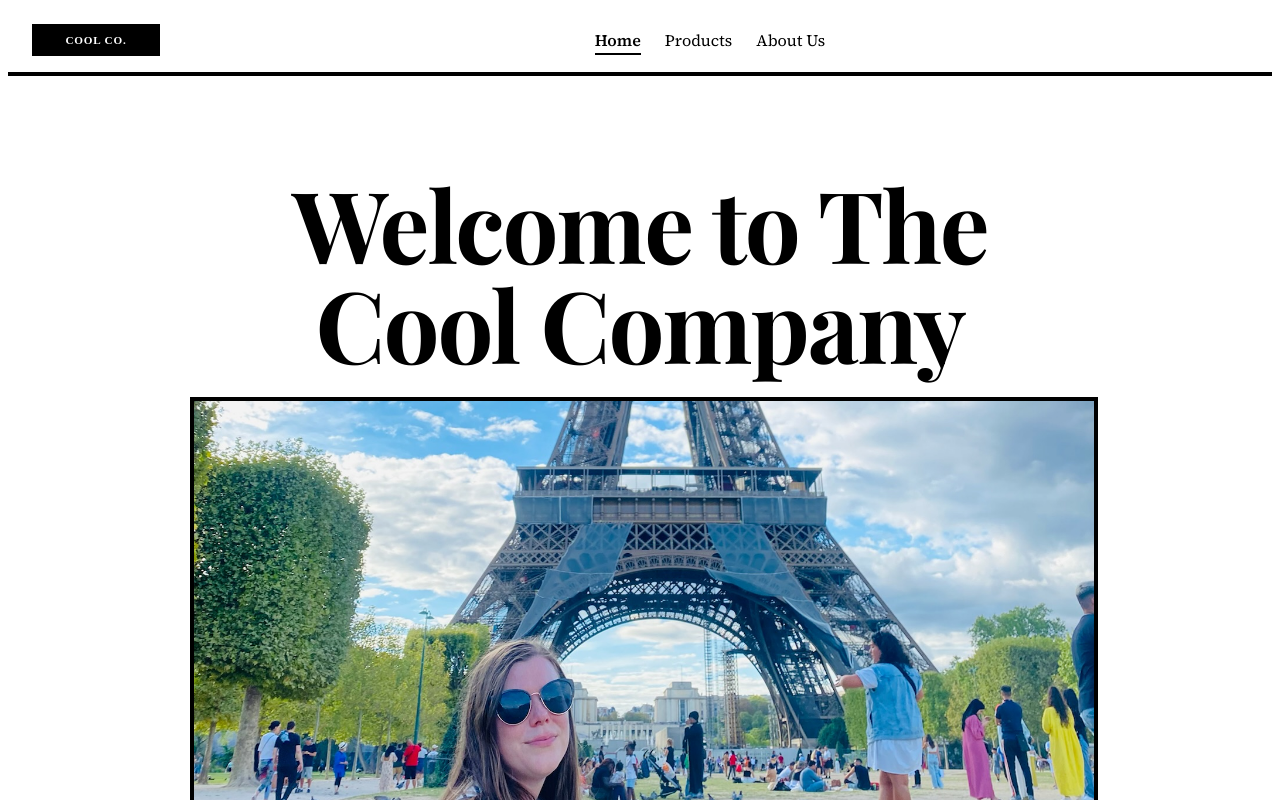
Test: App navigation › shows a Products placeholder page with no error when Products is clicked
Click the link "Products" at {"x": 698, "y": 42}, box [665,29,732,55]
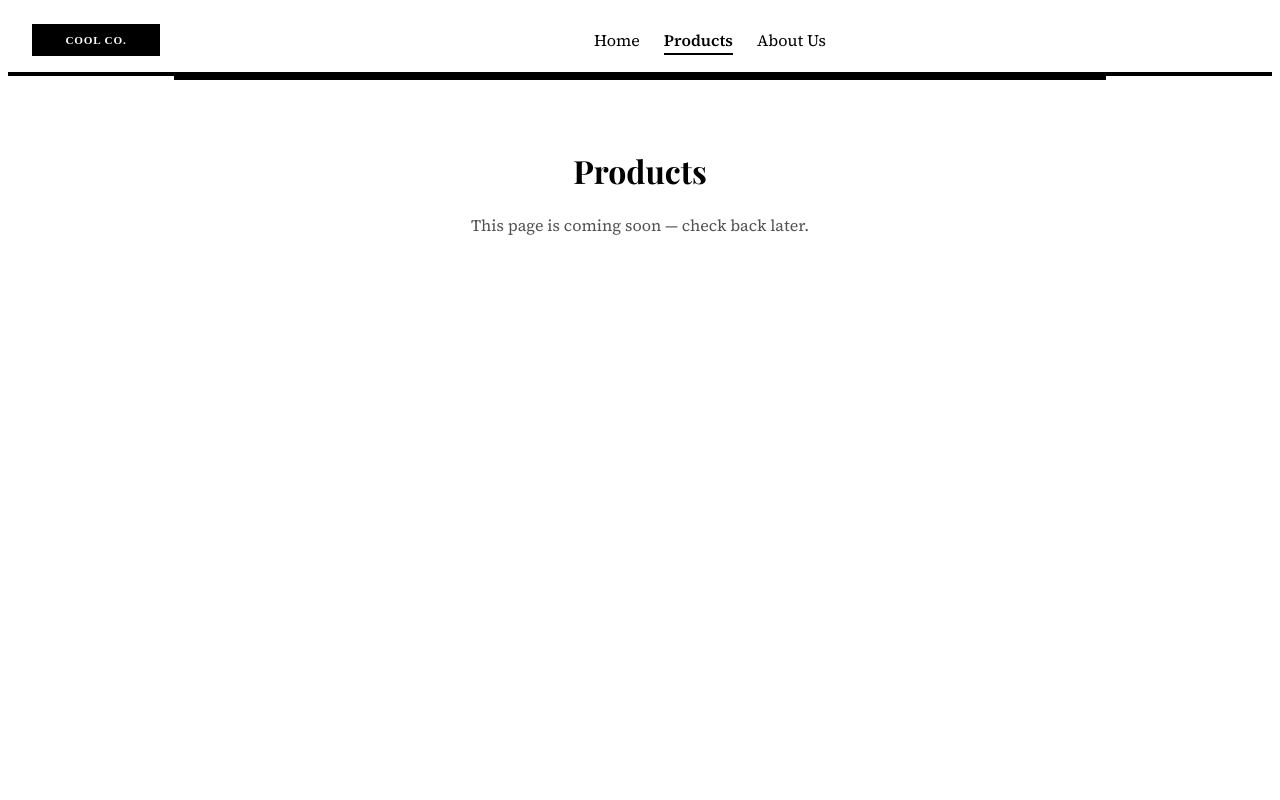
Now the heading "Products" is shown, box [573,149,707,192]
